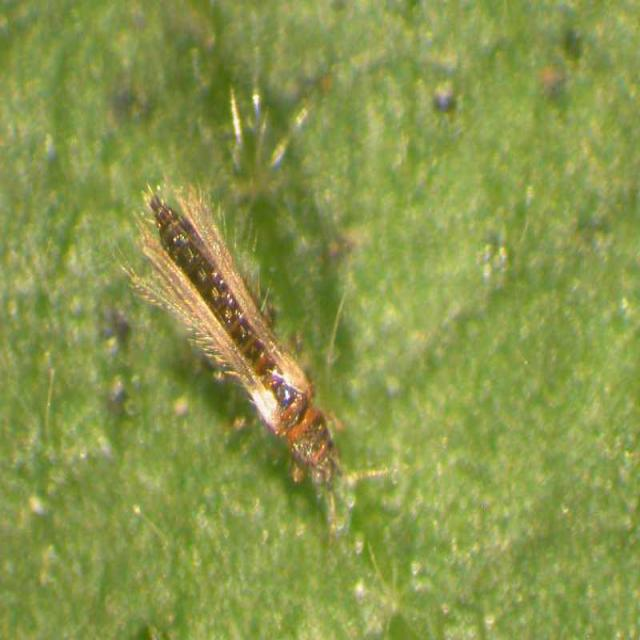Thrip-Adult-: (108, 162, 353, 500)
